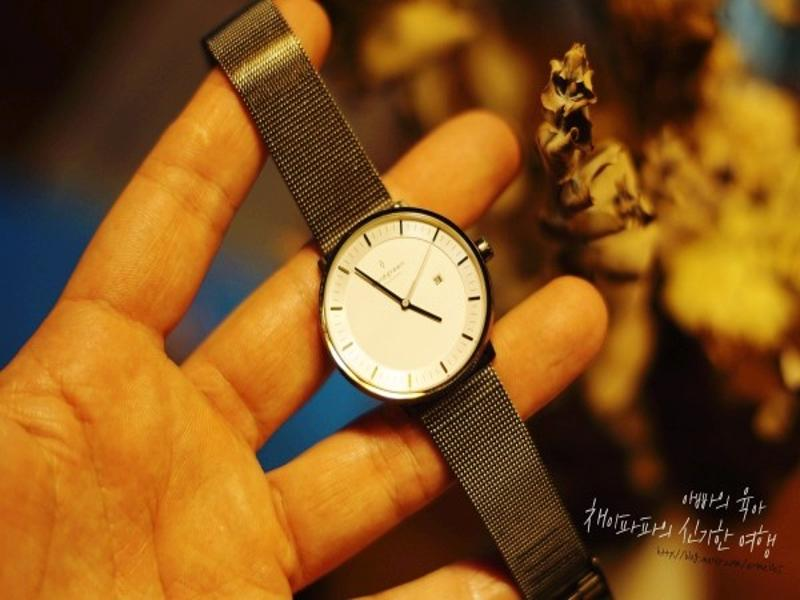watch: (206, 6, 613, 600)
